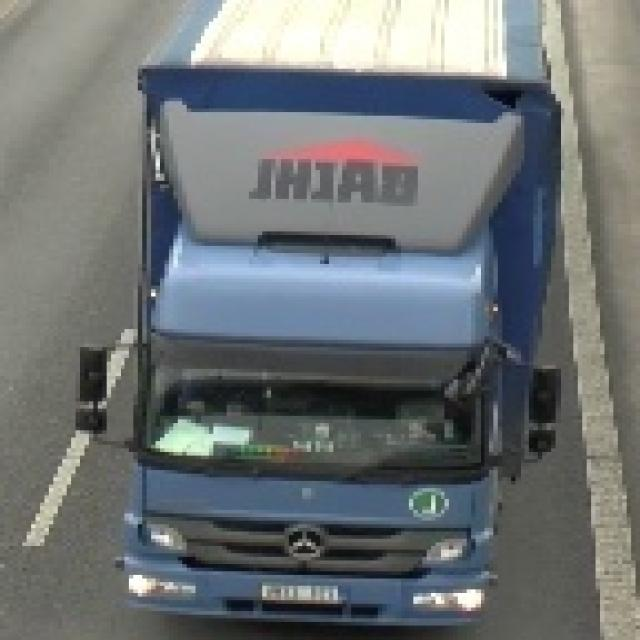TRUCK: (125, 84, 508, 616)
